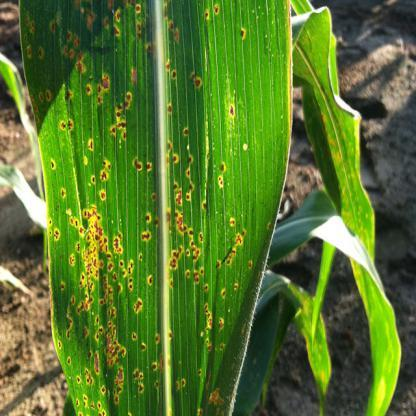Corn rust leaf: (17, 5, 293, 415)
